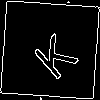K: (25, 25, 81, 82)
